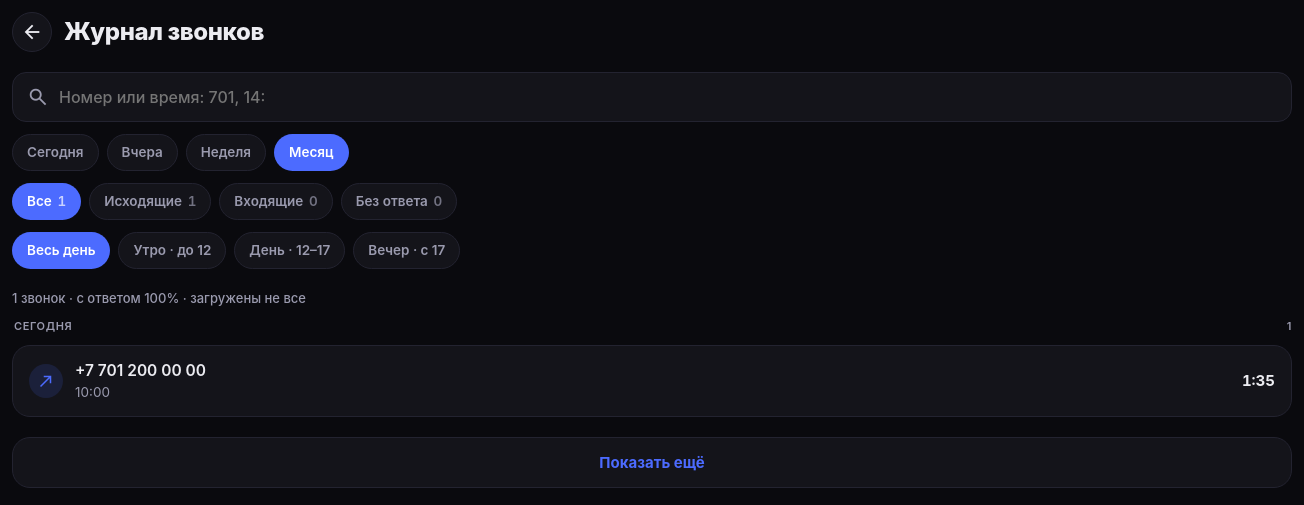
Test case: журнал звонков › «Показать ещё» берёт следующую страницу по курсору
Click the button "Показать ещё" at (652, 463), box [12,437,1292,488]
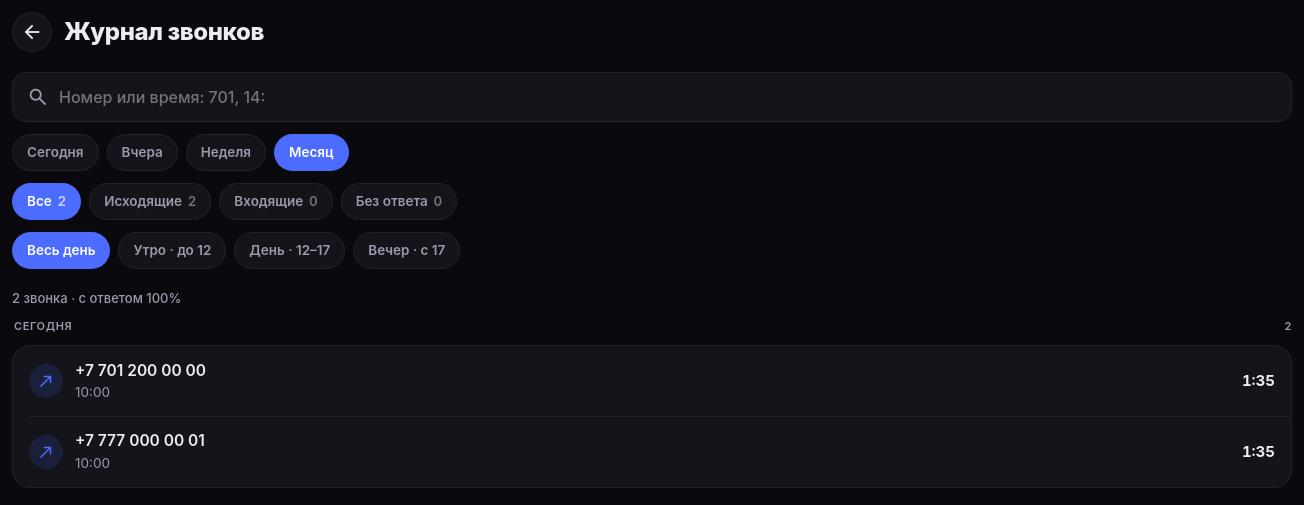
Expected: the text "+7 777 000 00 01" is shown, [75,431,205,450]
